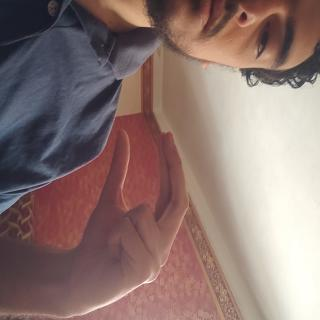DHELL: (93, 170, 239, 320)
